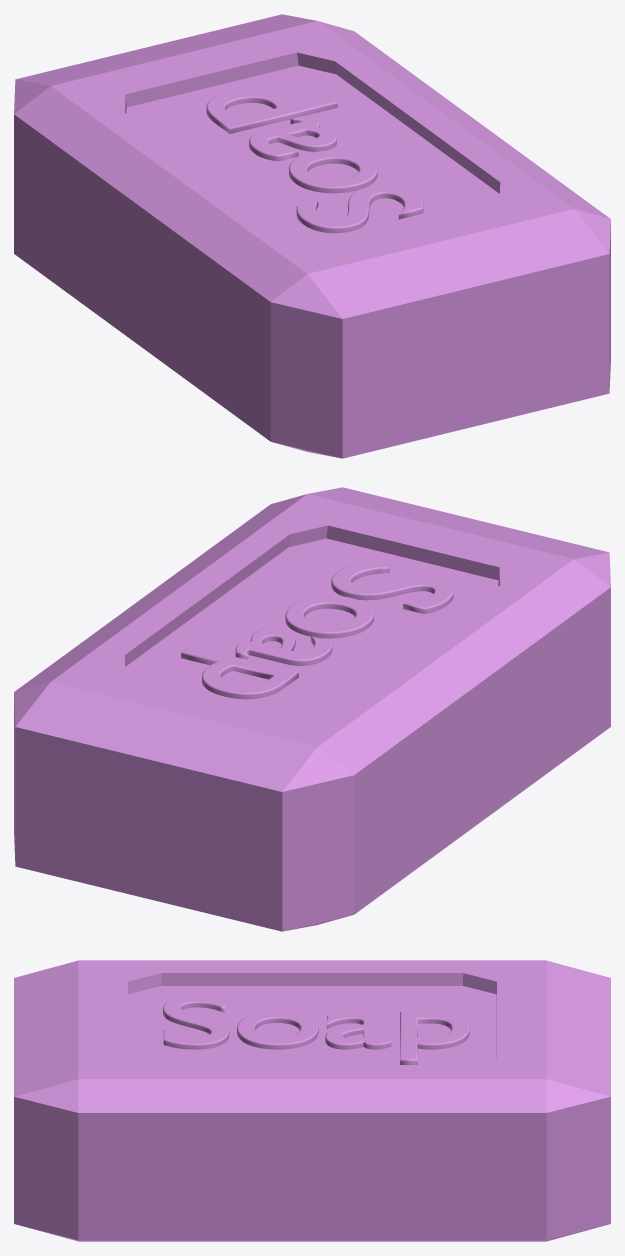
File: Soap.fbx
3 renders of one model, top to bottom at view 1: azimuth 30°, elevation 25°; view 2: azimuth 150°, elevation 25°; view 3: azimuth 270°, elevation 25°, orthographic. The views are drawn at different scales.
Visible parts, largest first — view 1: Soap; view 2: Soap; view 3: Soap.
Boxes of the visible parts, box(x1,y1,x2,y2) form: Soap: box(14, 14, 610, 458); Soap: box(14, 487, 610, 931); Soap: box(14, 960, 610, 1241).
Bounding box in the file's own units: 6 × 3 × 10.
